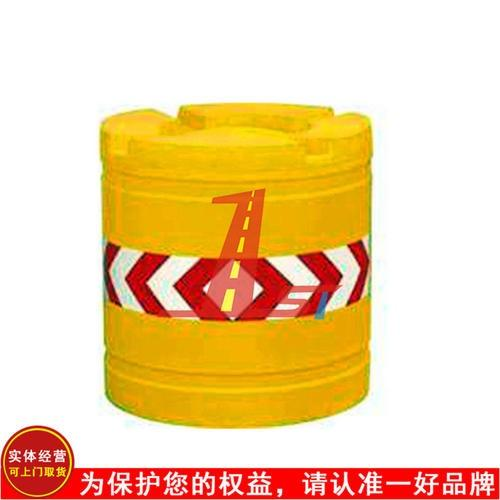cone_barrel: (102, 99, 377, 423)
